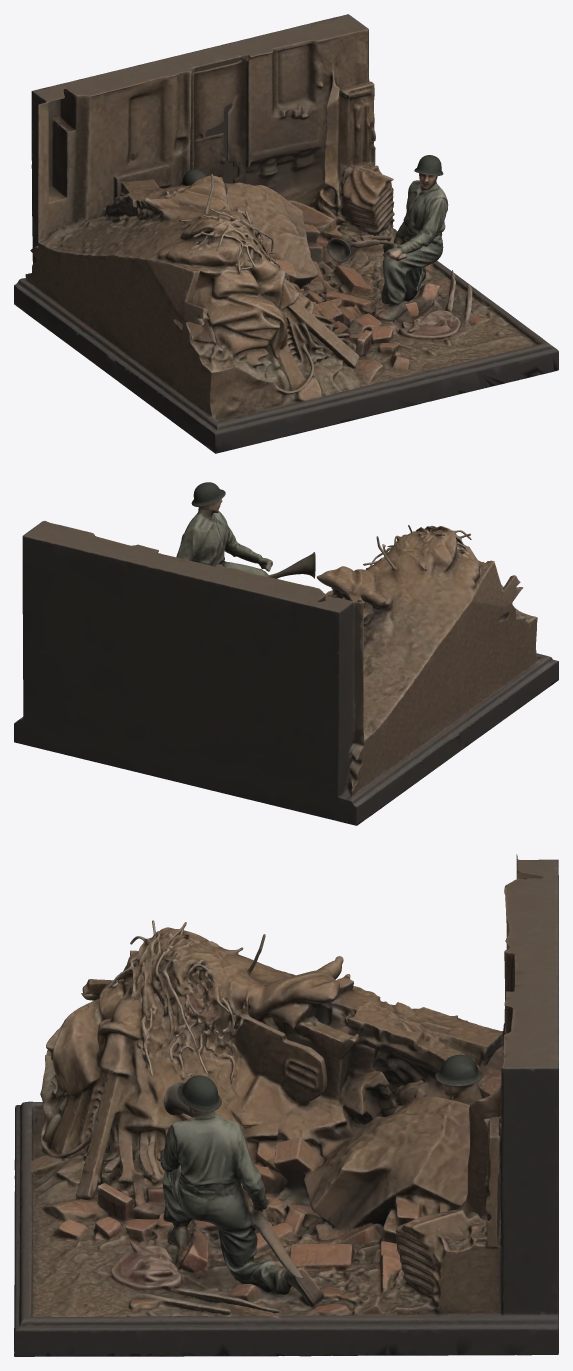
The model's file is chien_si_chien_dau.glb.
3 views of the same model, one above another, from view 1: azimuth 30°, elevation 25°; view 2: azimuth 150°, elevation 25°; view 3: azimuth 270°, elevation 25° (orthographic). The views are drawn at different scales.
Bounding box in the file's own units: 1.87 × 1.09 × 1.9.
1 material, 1 textured.
